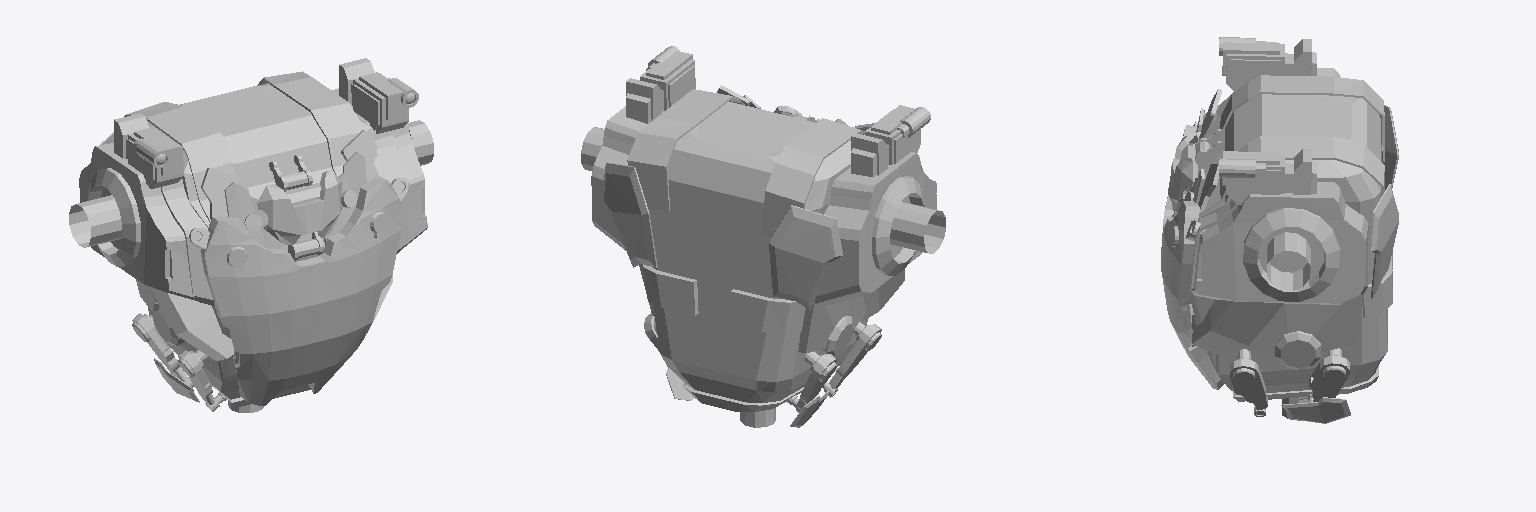
File: body.obj
The picture shows the model from 3 angles: view 1: azimuth 30°, elevation 25°; view 2: azimuth 150°, elevation 25°; view 3: azimuth 270°, elevation 25°; orthographic projection.
Visible parts, largest first — view 1: body body polySurface249, body body polySurface270, body body polySurface295, polySurface203 body body, body body polySurface204, body body polySurface254, body body polySurface277, body body polySurface291, body body polySurface300, body polySurface315, body body polySurface237, body body polySurface296 (+13 smaller); view 2: body body polySurface270, body body polySurface295, body body polySurface227, body body polySurface204, polySurface203 body body, body body polySurface228, body body polySurface296, body body polySurface271, body body polySurface291, body polySurface315, body body polySurface273, body body polySurface272 (+10 smaller); view 3: body body polySurface270, body body polySurface296, body body polySurface249, body body polySurface292, body body polySurface274, polySurface203 body body, body body polySurface278, body body polySurface204, body body polySurface299, body body polySurface300, body body polySurface228, body polySurface383 (+11 smaller).
Boxes of the visible parts, x1,y1,x2,y2 form: body body polySurface249: [200, 176, 402, 405]; body body polySurface270: [147, 83, 383, 407]; body body polySurface295: [79, 143, 212, 305]; polySurface203 body body: [124, 102, 237, 221]; body body polySurface204: [257, 71, 366, 176]; body body polySurface254: [257, 169, 341, 244]; body body polySurface277: [149, 286, 233, 360]; body body polySurface291: [88, 168, 140, 266]; body body polySurface300: [353, 72, 408, 133]; body polySurface315: [69, 195, 121, 247]; body body polySurface237: [161, 179, 214, 305]; body body polySurface296: [332, 88, 427, 246]; body body polySurface270: [648, 101, 867, 411]; body body polySurface295: [815, 152, 936, 305]; body body polySurface227: [769, 205, 842, 310]; body body polySurface204: [627, 89, 744, 210]; polySurface203 body body: [762, 118, 864, 236]; body body polySurface228: [602, 163, 657, 267]; body body polySurface296: [591, 106, 663, 250]; body body polySurface271: [728, 289, 805, 333]; body body polySurface291: [872, 176, 923, 275]; body polySurface315: [890, 202, 945, 253]; body body polySurface273: [798, 296, 866, 352]; body body polySurface272: [643, 264, 698, 315]; body body polySurface270: [1192, 88, 1387, 401]; body body polySurface296: [1193, 182, 1368, 304]; body body polySurface249: [1161, 125, 1224, 389]; body body polySurface292: [1243, 208, 1339, 301]; body body polySurface274: [1246, 293, 1363, 355]; polySurface203 body body: [1203, 75, 1384, 161]; body body polySurface278: [1192, 300, 1283, 356]; body body polySurface204: [1199, 136, 1384, 215]; body body polySurface299: [1222, 42, 1284, 90]; body body polySurface300: [1222, 151, 1284, 204]; body body polySurface228: [1370, 184, 1398, 298]; body polySurface383: [1267, 232, 1310, 290].
Size of the model in its own units: 51.83 by 45.4 by 31.24.